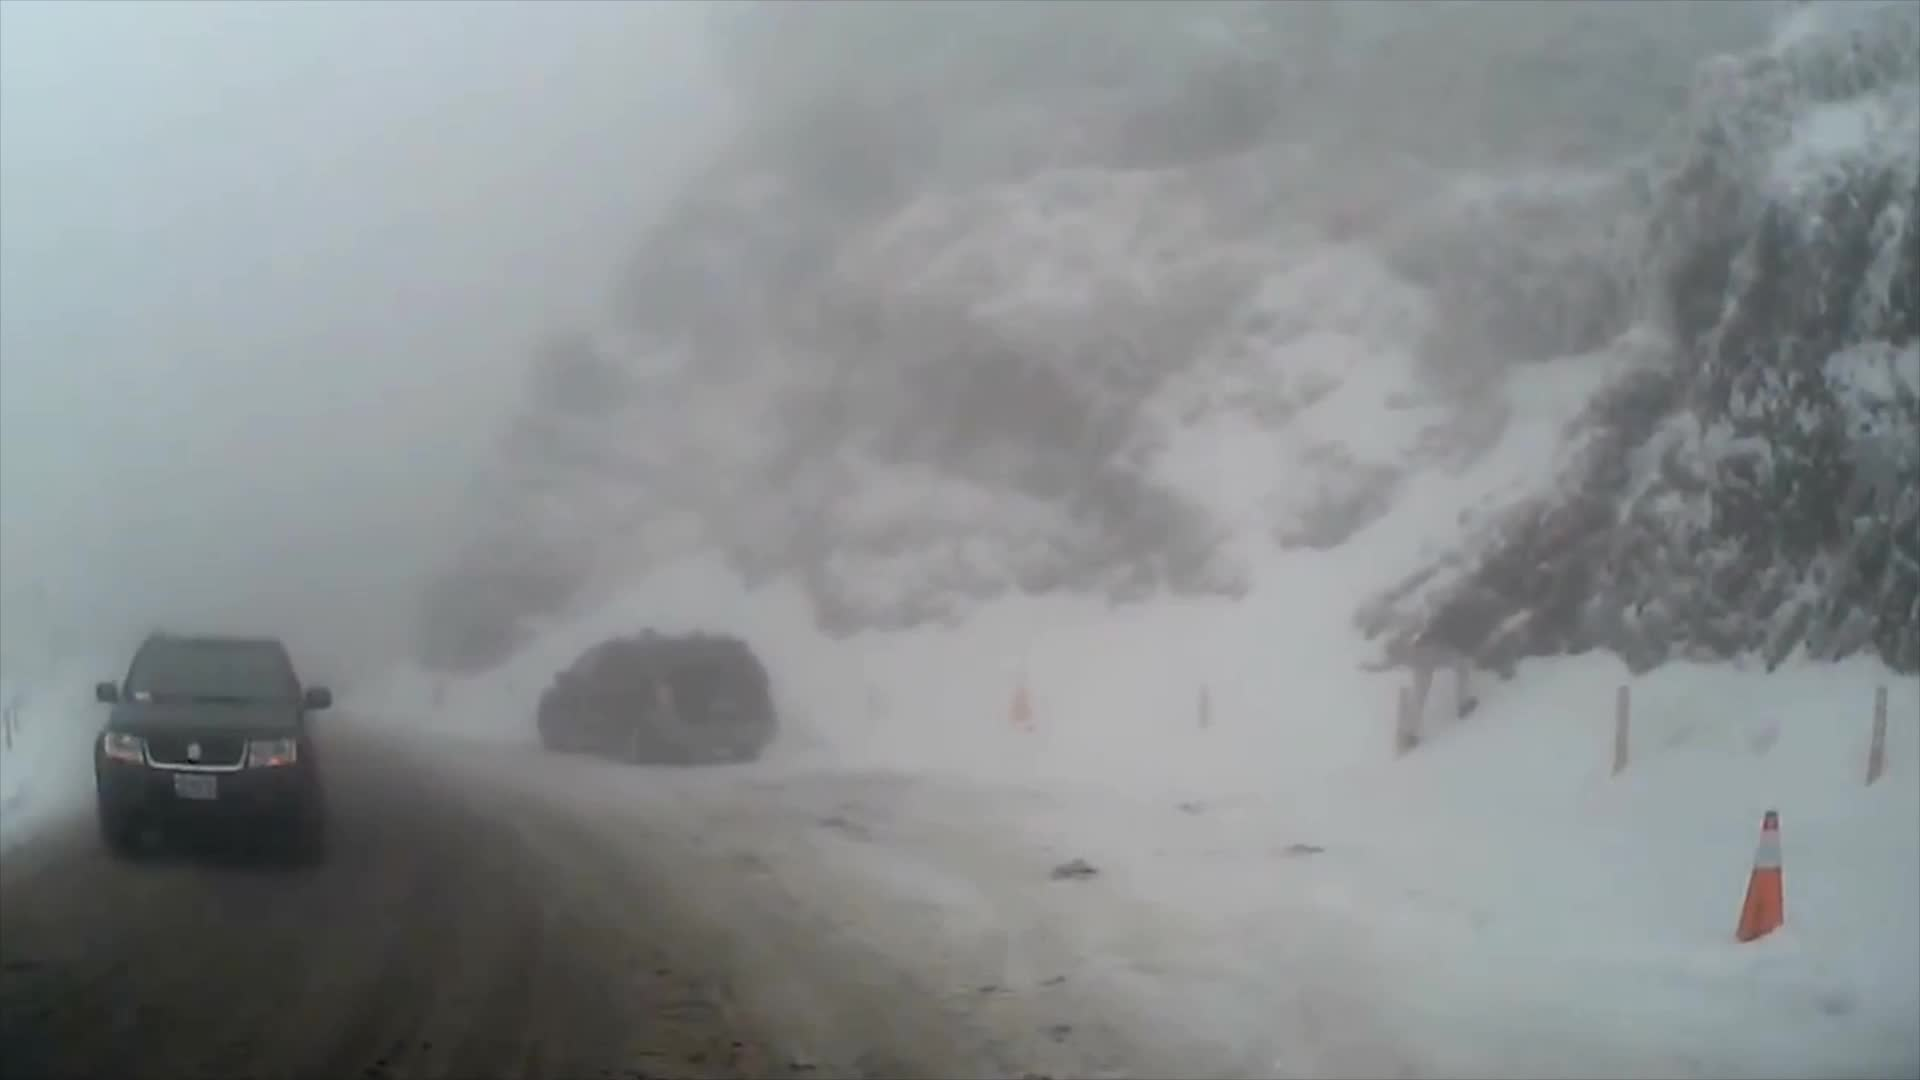vehicle: (84, 626, 332, 864), (535, 636, 775, 770)
